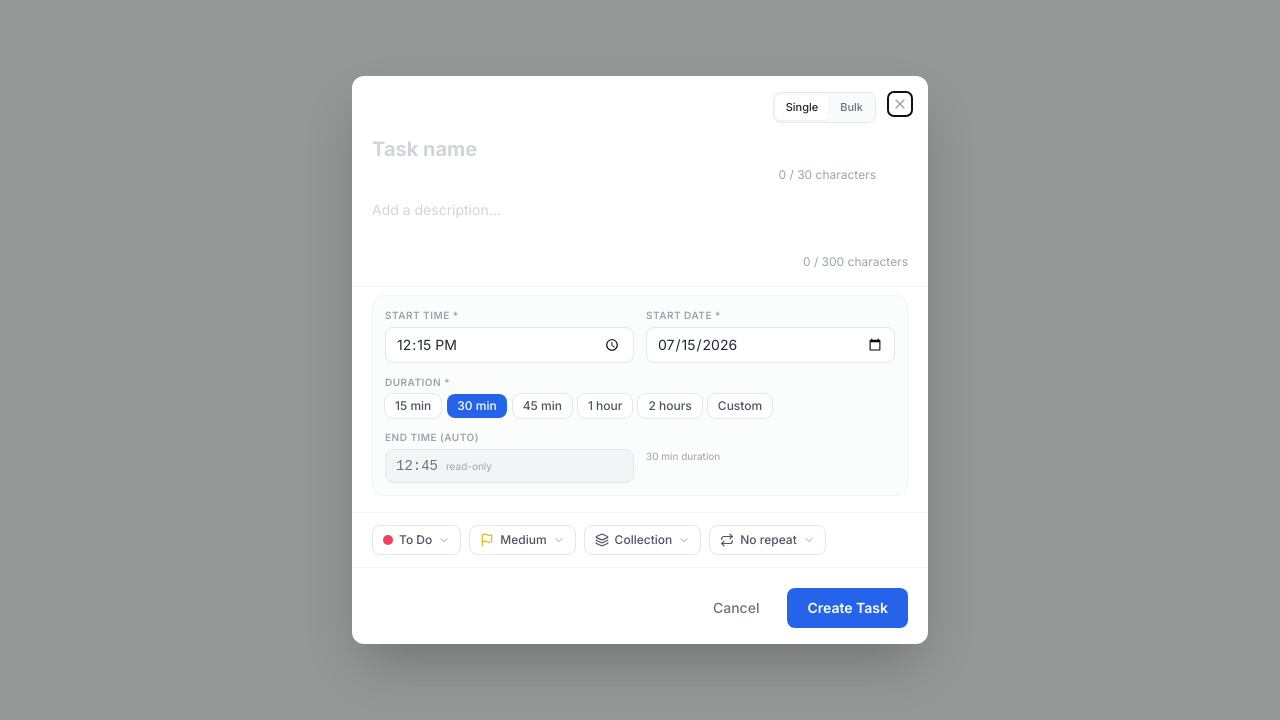
Test: TaskForm › shows title and collection validation errors on empty submit after clearing fields
// Clear the auto-populated title field (it's empty by default, just submit)
Click the button "Create Task": (848, 608) 787,588 -> 908,628
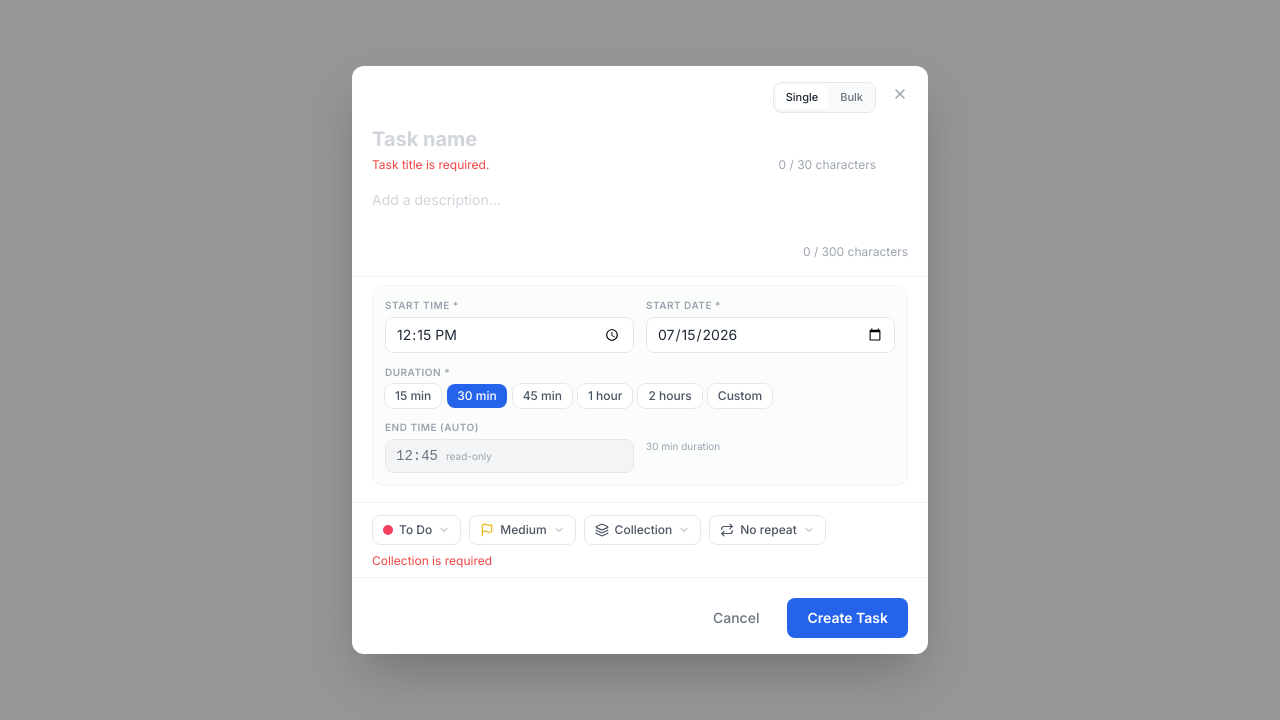
Result: the text "Task title is required." is shown at 372,156 -> 489,172
Result: the text "Collection is required" is shown at 372,553 -> 492,568
